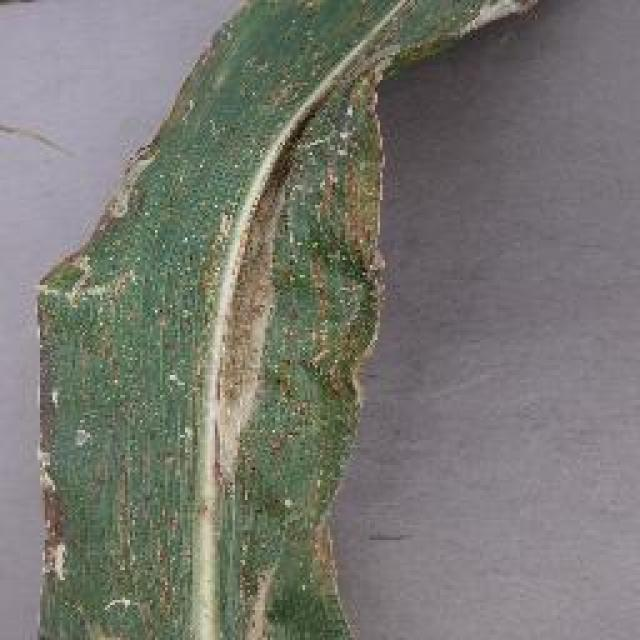Corn___Northern_Leaf_Blight: (22, 0, 602, 640)
